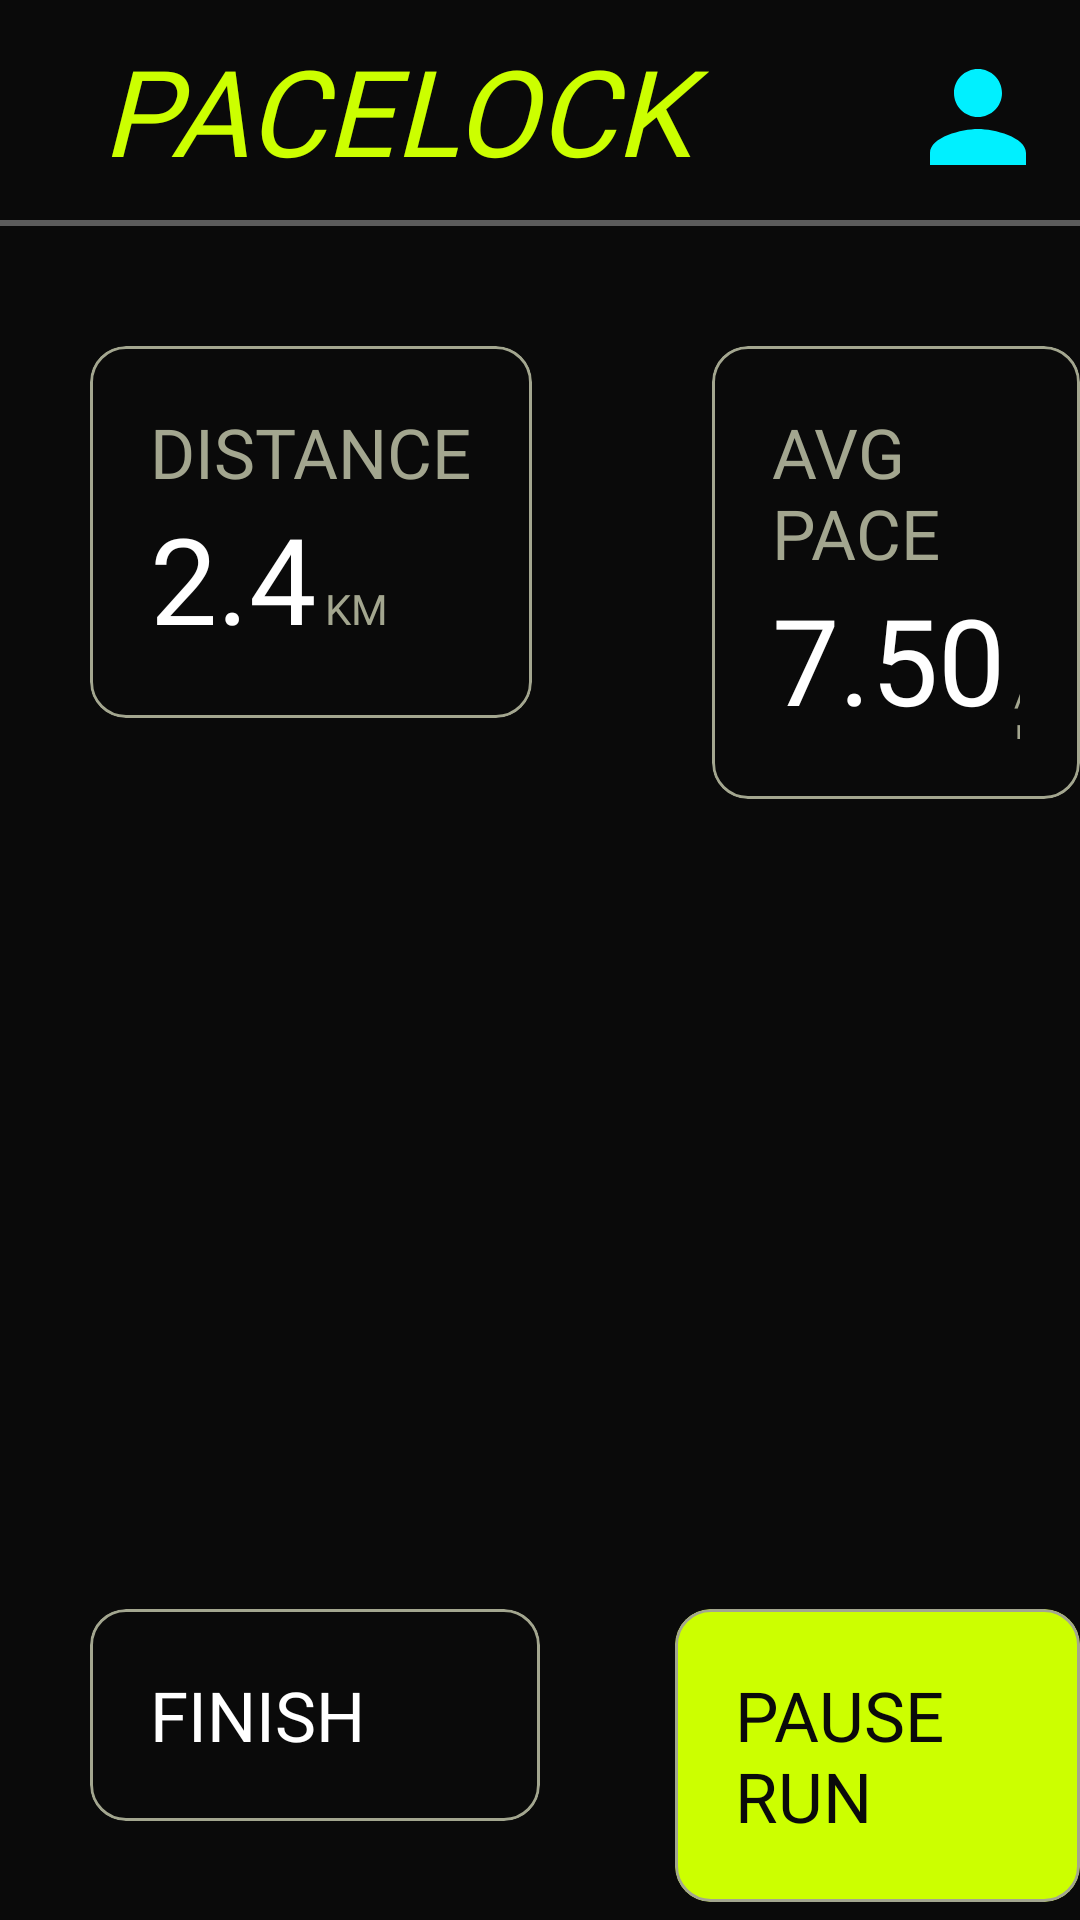

Icon bounding boxes for this 1080 x 1920 phone screenshot, format (x1, y1, x2, y2):
person: (930, 69, 1026, 165)
